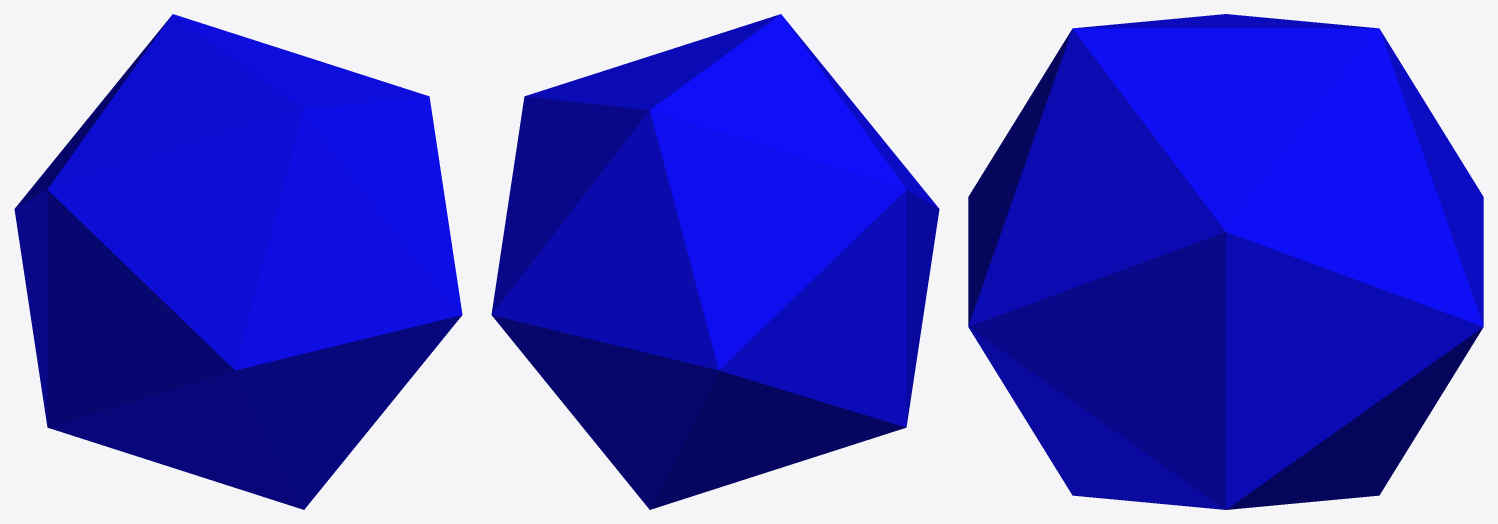
Rendered from icosahedron.dae.
3 renders of one model, left to right at view 1: azimuth 30°, elevation 25°; view 2: azimuth 150°, elevation 25°; view 3: azimuth 270°, elevation 25°, orthographic. The views are drawn at different scales.
Visible parts, largest first — view 1: SketchUp; view 2: SketchUp; view 3: SketchUp.
Boxes of the visible parts, left/top/right/bottom form: SketchUp: left=14, top=14, right=462, bottom=509; SketchUp: left=491, top=14, right=939, bottom=509; SketchUp: left=968, top=14, right=1483, bottom=509.
Bounding box in the file's own units: 6.61 × 6.61 × 6.61.
